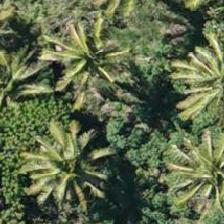coconut_tree: (24, 117, 114, 207), (43, 10, 133, 100), (171, 125, 223, 215)
